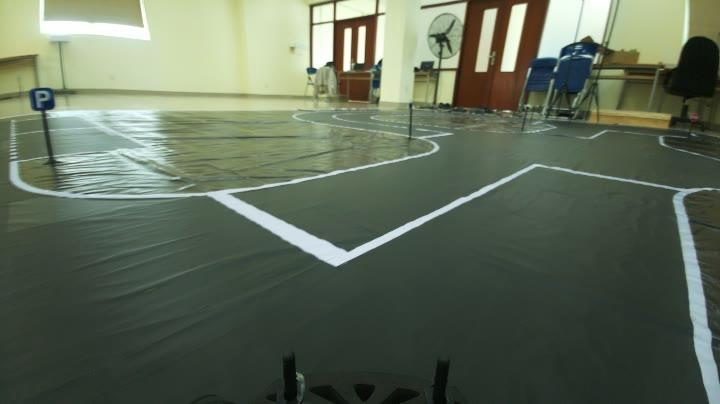parking: (26, 84, 59, 109)
